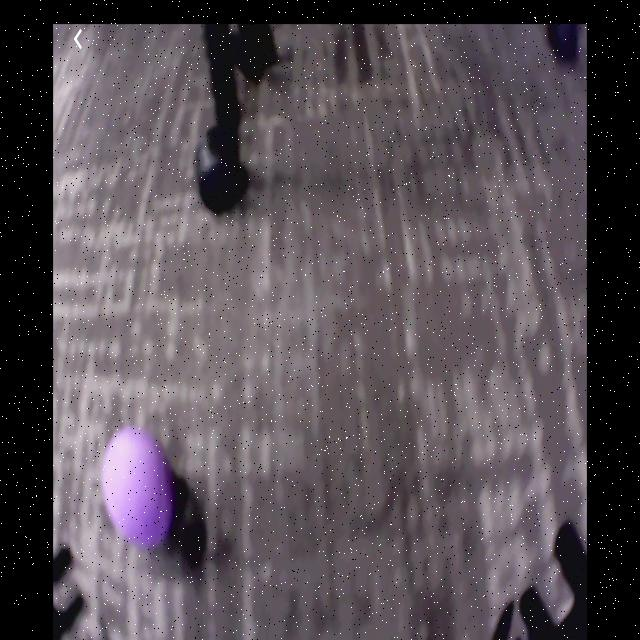ball: (100, 425, 176, 545)
